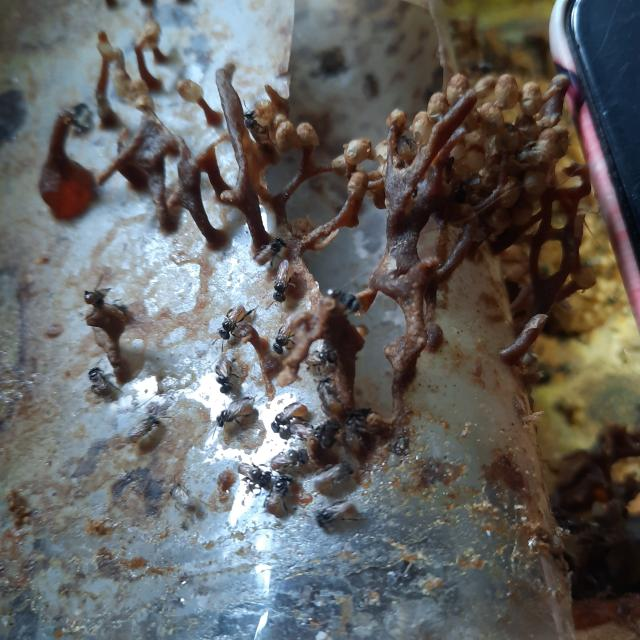honeybee: (214, 302, 262, 347), (319, 496, 363, 543), (81, 362, 128, 404), (268, 442, 309, 485), (270, 395, 313, 436), (326, 284, 376, 317), (231, 449, 268, 492), (269, 259, 305, 303), (217, 395, 259, 432), (263, 470, 302, 509), (303, 344, 346, 379), (238, 104, 272, 148), (122, 404, 165, 438), (253, 232, 291, 268), (210, 352, 241, 393), (269, 316, 297, 360), (81, 264, 106, 304)
